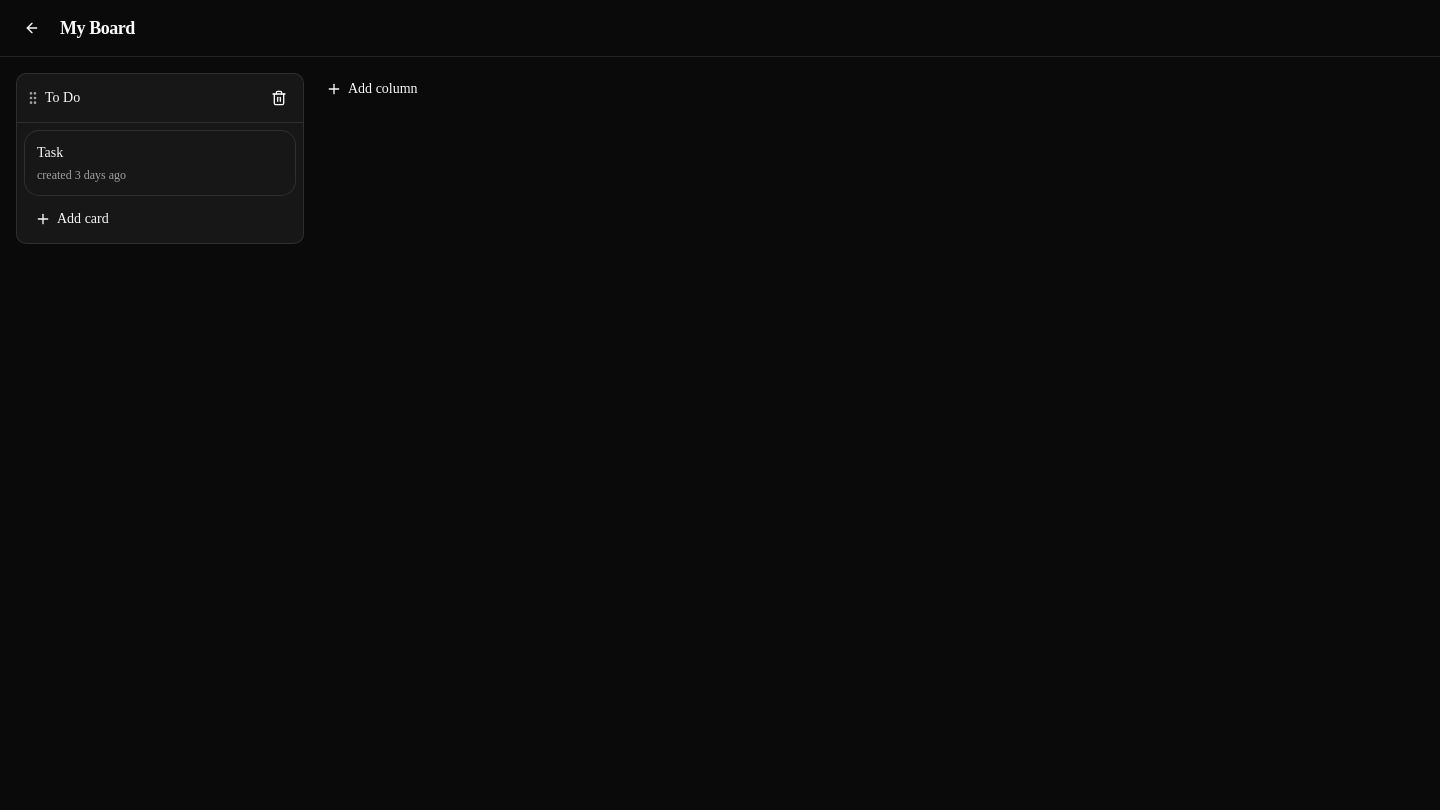
Scenario: BoardCanvas › opens the card modal when a card is clicked
Click the button "Task created 3 days ago": (160, 163) [25, 131, 295, 195]
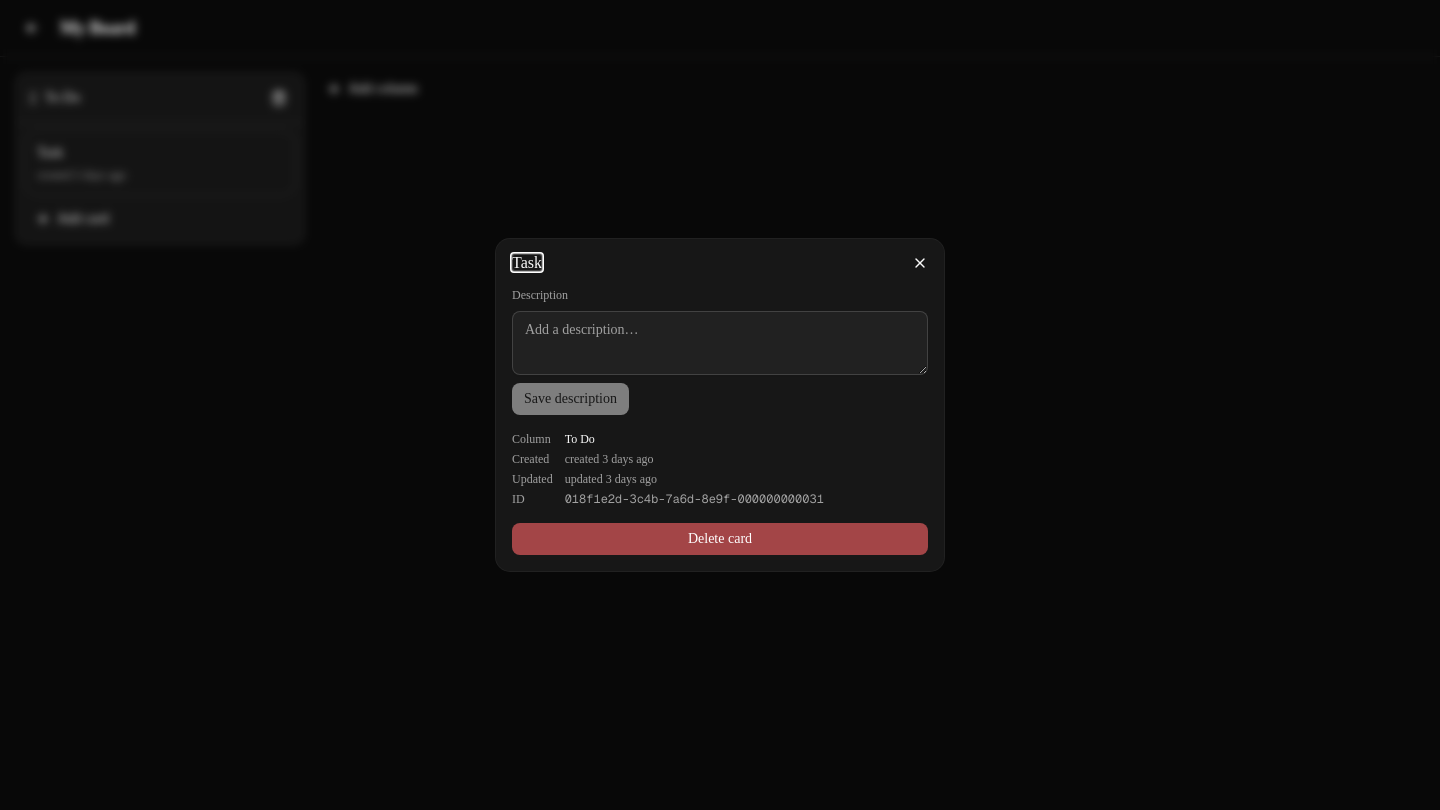
Expected: the button "Delete card" is shown, [512, 523, 928, 555]
